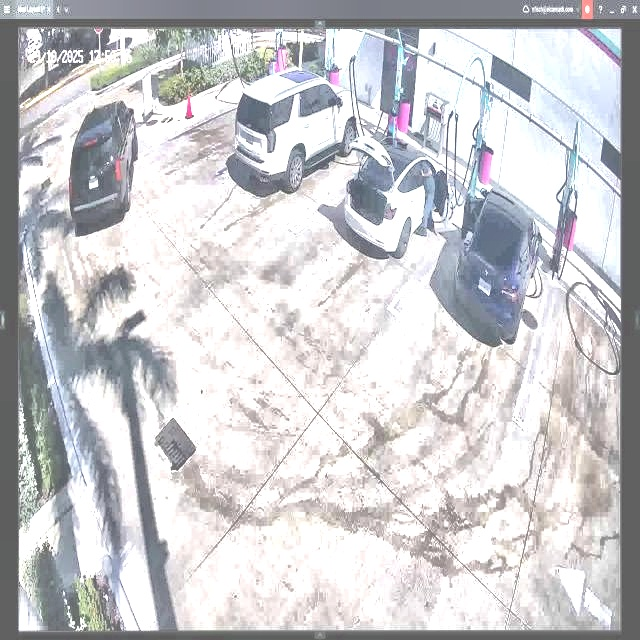Car: (231, 69, 354, 188), (348, 123, 446, 258), (457, 190, 542, 337), (65, 95, 137, 218)
